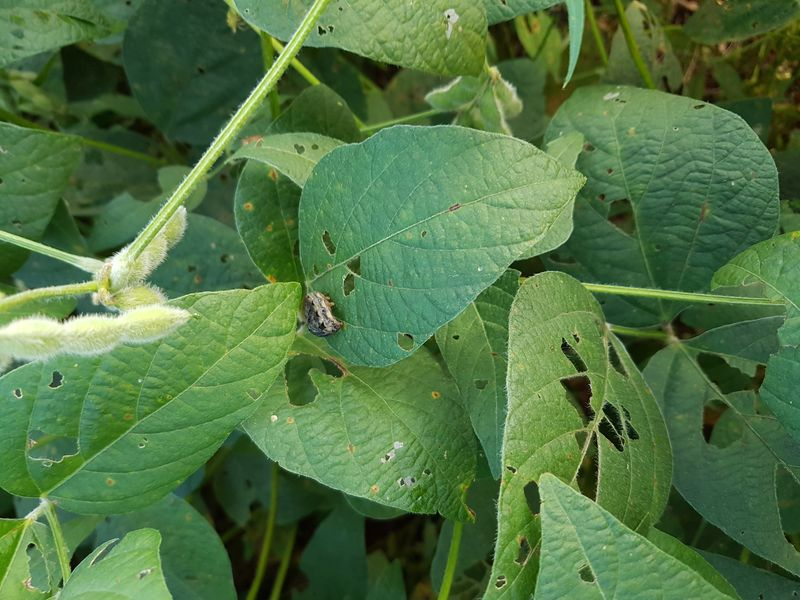Spodoptera_albula: (281, 278, 359, 349)
